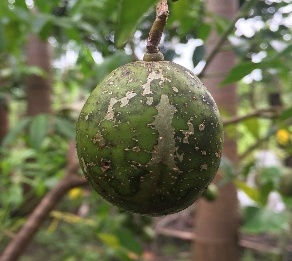Coc: (69, 52, 233, 221)
